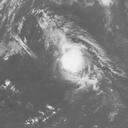cyclone: (57, 48, 90, 81)
